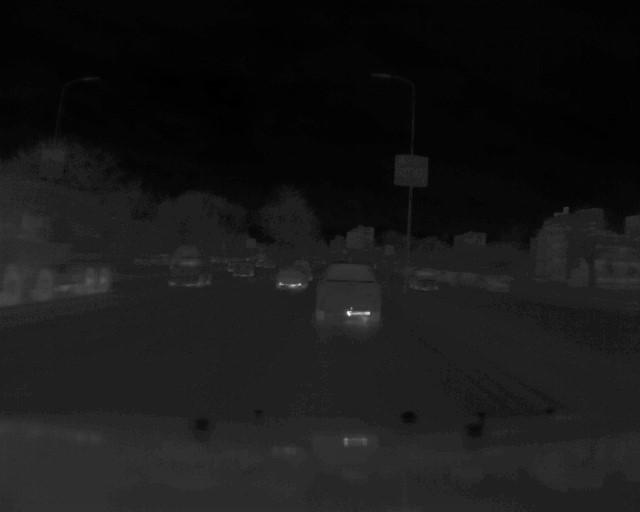car: (313, 261, 386, 335), (161, 256, 217, 290), (273, 263, 310, 293)
